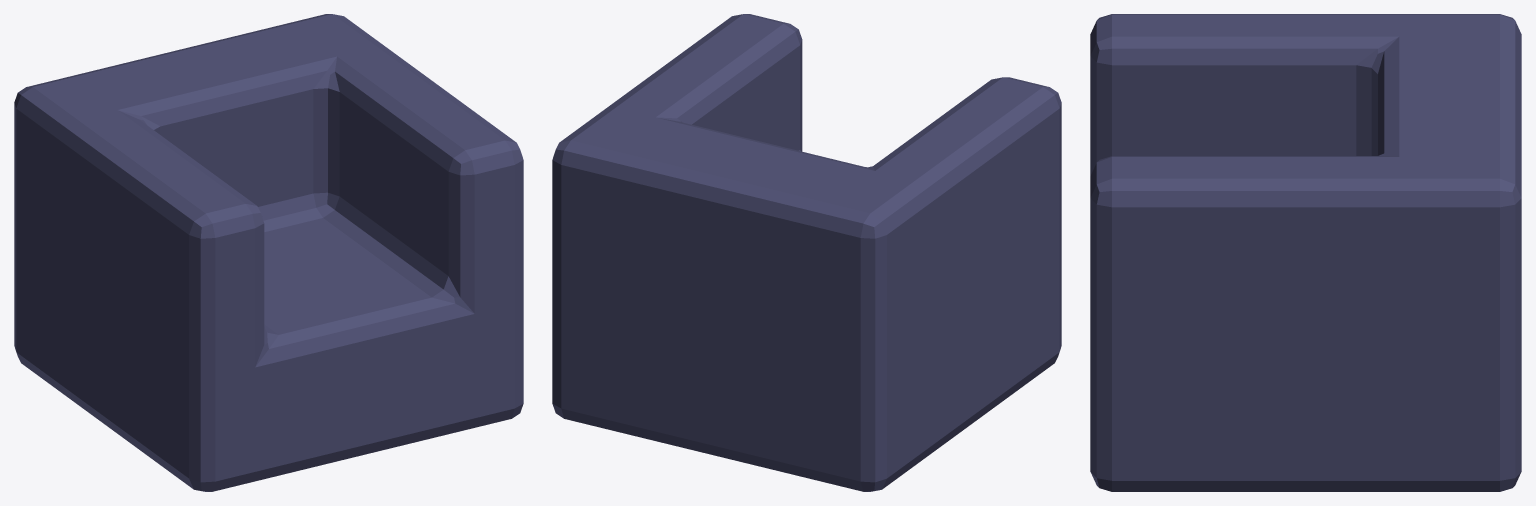
The model's file is tmp_armchair.fbx.
3 views of the same model, side by side, from view 1: azimuth 30°, elevation 25°; view 2: azimuth 150°, elevation 25°; view 3: azimuth 270°, elevation 25° (orthographic). The views are drawn at different scales.
Visible parts, largest first — view 1: Armchair; view 2: Armchair; view 3: Armchair.
Boxes of the visible parts, x1=… form: Armchair: x1=14, y1=14, x2=523, y2=491; Armchair: x1=552, y1=14, x2=1061, y2=491; Armchair: x1=1090, y1=14, x2=1521, y2=491.
Size of the model in its own units: 100 by 80 by 100.
